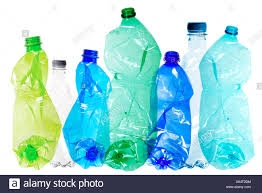plastic: (198, 24, 261, 170), (103, 6, 157, 171), (9, 36, 62, 168), (179, 19, 226, 165), (63, 48, 112, 171), (149, 49, 194, 171), (45, 56, 85, 173)
